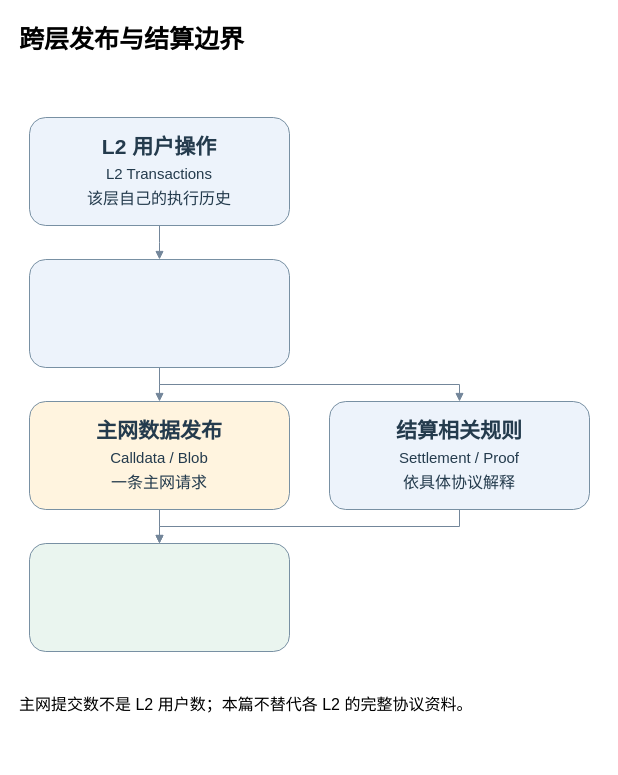
The diagram is 618 pixels wide and 775 high, and some of its shapes have lost their labels. The shapes that lost their labels are listed below. From the top down, each one's centre as x and y in pixels, then its label:
At point (159, 313): "组织批次 Batch / Compression 可涵盖多笔操作".
At point (159, 597): "映射与解析 Cross-layer Evidence 不能默认逐笔一对一".
